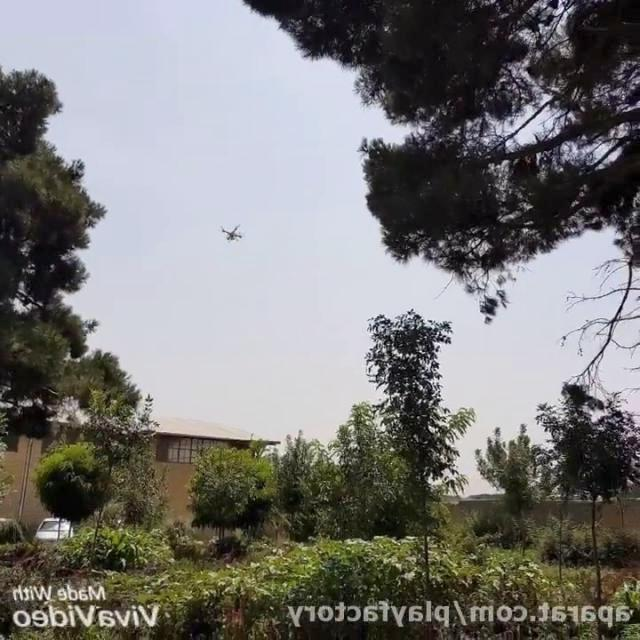drone: (215, 221, 249, 244)
